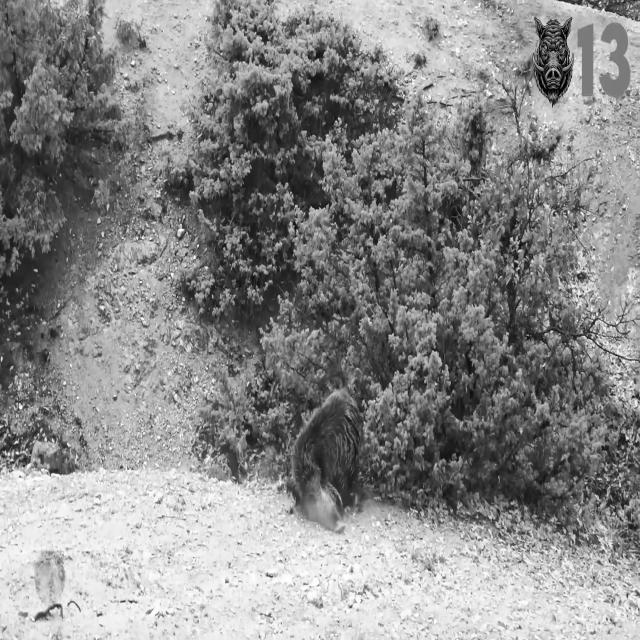boar: (288, 388, 360, 531)
